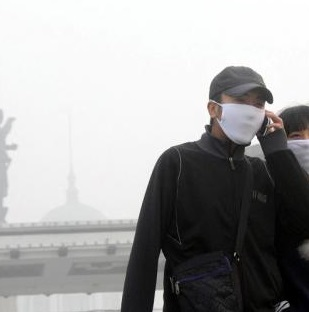person: (120, 65, 297, 312), (272, 102, 309, 312)
